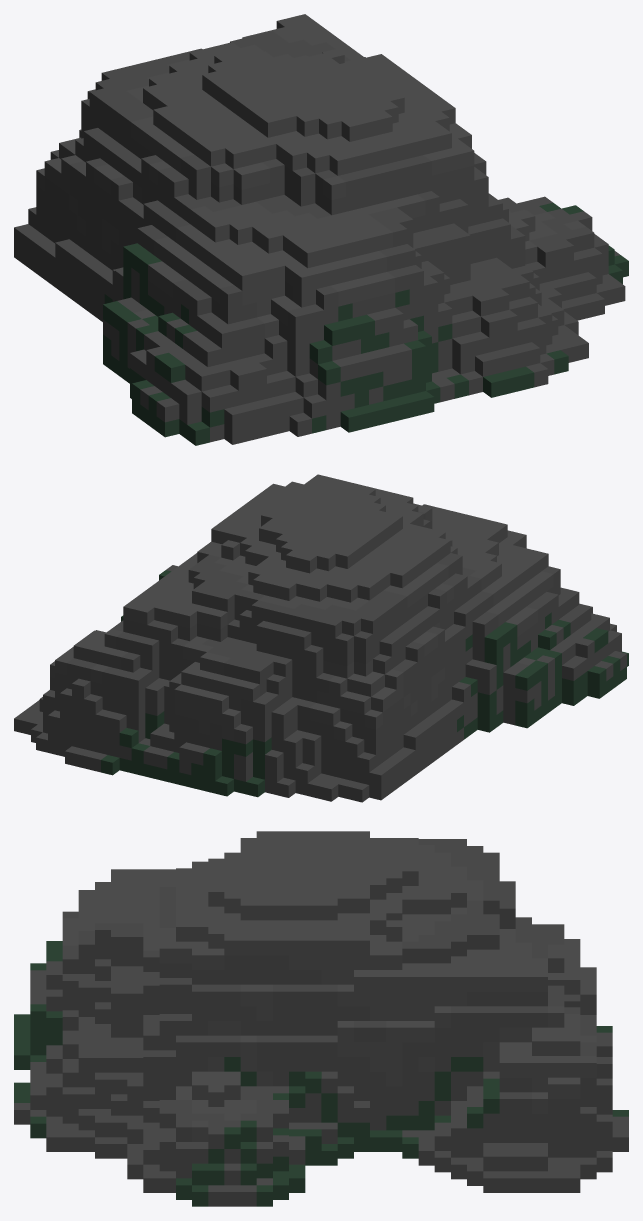
File: stone2.obj
3 renders of one model, top to bottom at view 1: azimuth 30°, elevation 25°; view 2: azimuth 150°, elevation 25°; view 3: azimuth 270°, elevation 25°, orthographic. The views are drawn at different scales.
Size of the model in its own units: 3.6 by 1.4 by 3.8.
1 material, 1 textured.
